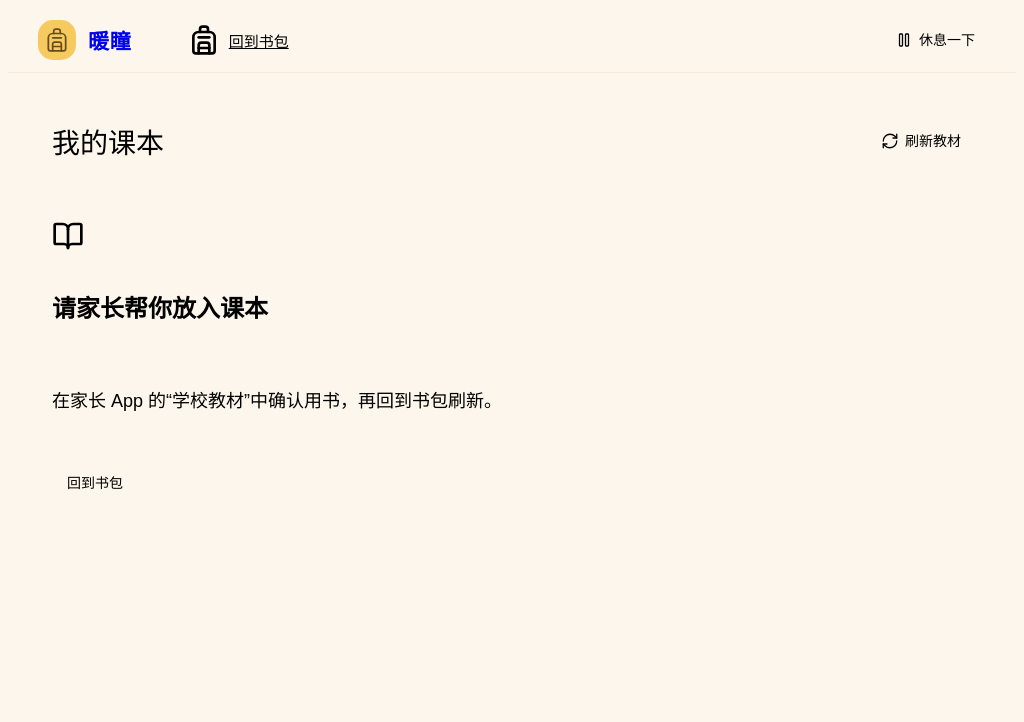
Test: school textbooks › re-reads changed parent selection on refresh
The width and height of the screenshot is (1024, 722).
Check: the heading "请家长帮你放入课本" is shown, box [52,289,268,330]
Click the button "刷新教材" at coordinates (921, 141), box [870,123,972,159]
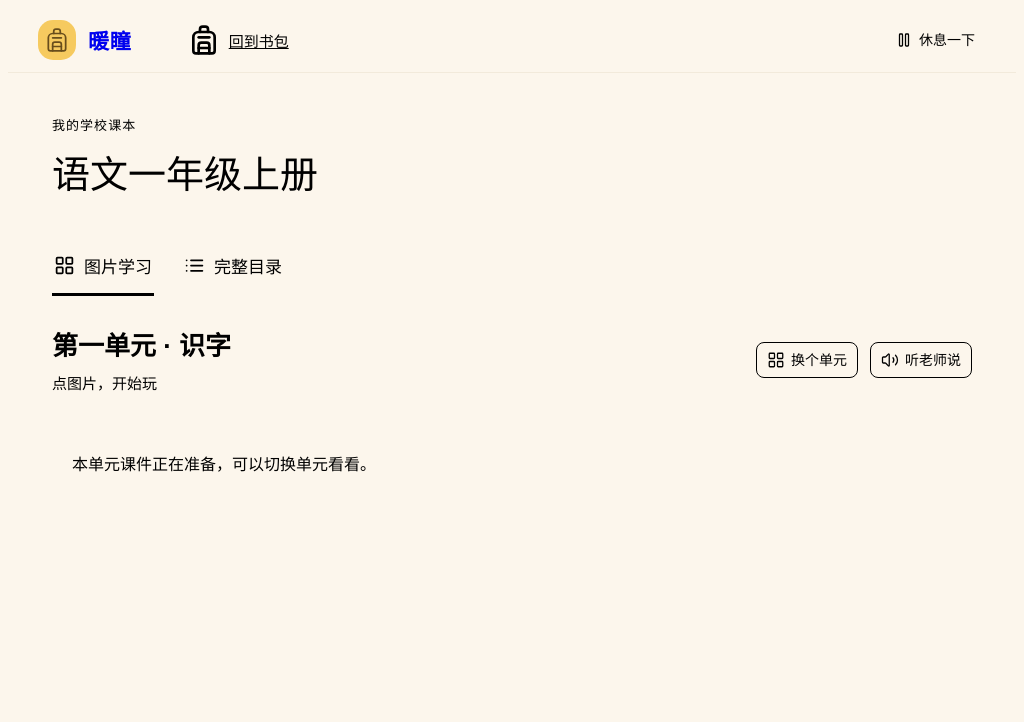
Click the button "完整目录" at coordinates (233, 267), box [182,238,284,296]
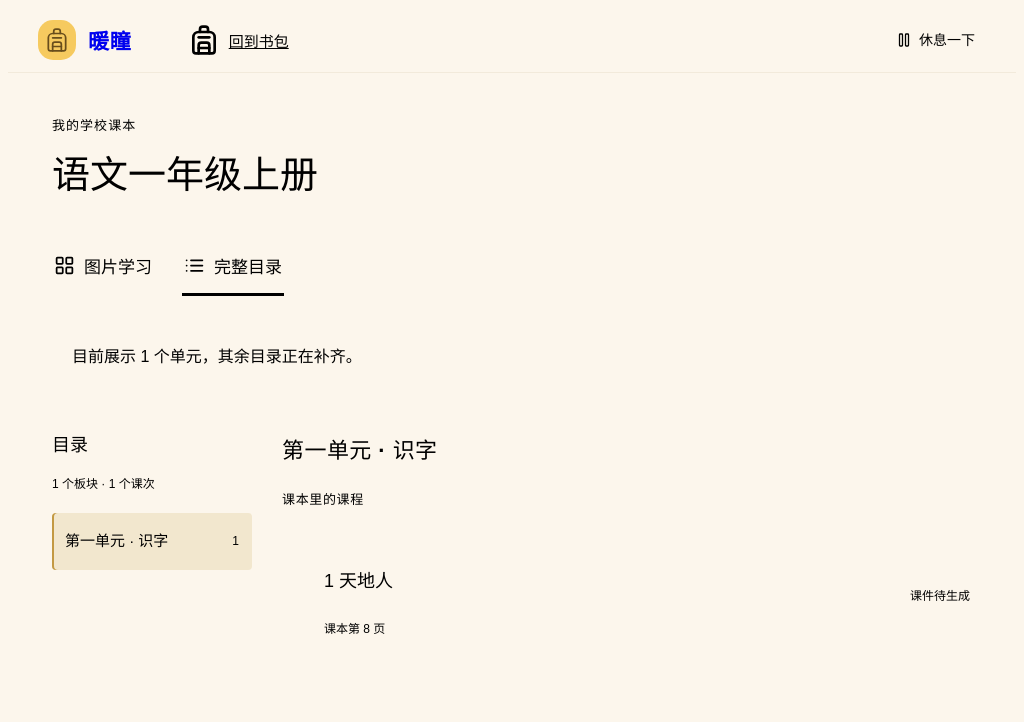
Check: the heading "1 天地人" is shown, box [324,568,393,595]
